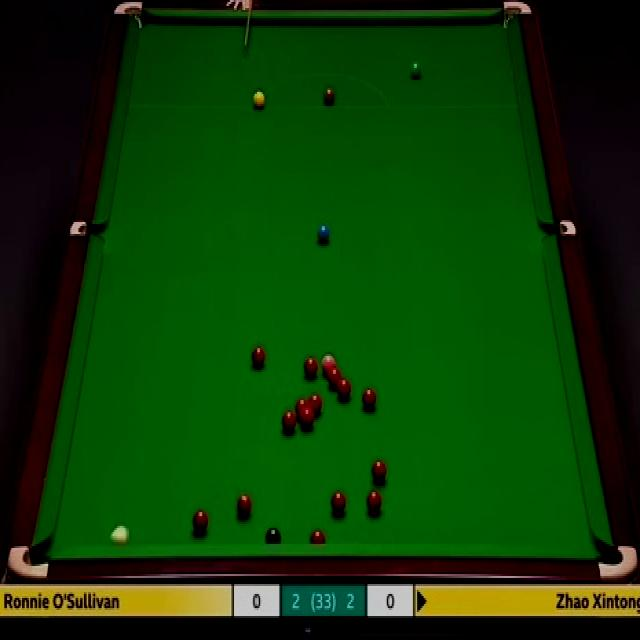black-ball: (264, 525, 282, 544)
blue-ball: (316, 225, 331, 242)
brown-ball: (323, 88, 336, 110)
green-ball: (410, 59, 422, 75)
pink-ball: (322, 354, 336, 374)
red-ball: (307, 393, 324, 419), (371, 459, 387, 486), (331, 488, 346, 516), (191, 509, 208, 533), (280, 410, 297, 434), (236, 493, 253, 516), (252, 346, 265, 370), (300, 408, 314, 430), (368, 491, 382, 513), (337, 380, 350, 402), (295, 399, 309, 418), (327, 367, 341, 386), (310, 530, 326, 546), (362, 390, 376, 408), (303, 357, 316, 376)
white-ball: (108, 526, 130, 543)
yellow-ball: (253, 90, 265, 110)
